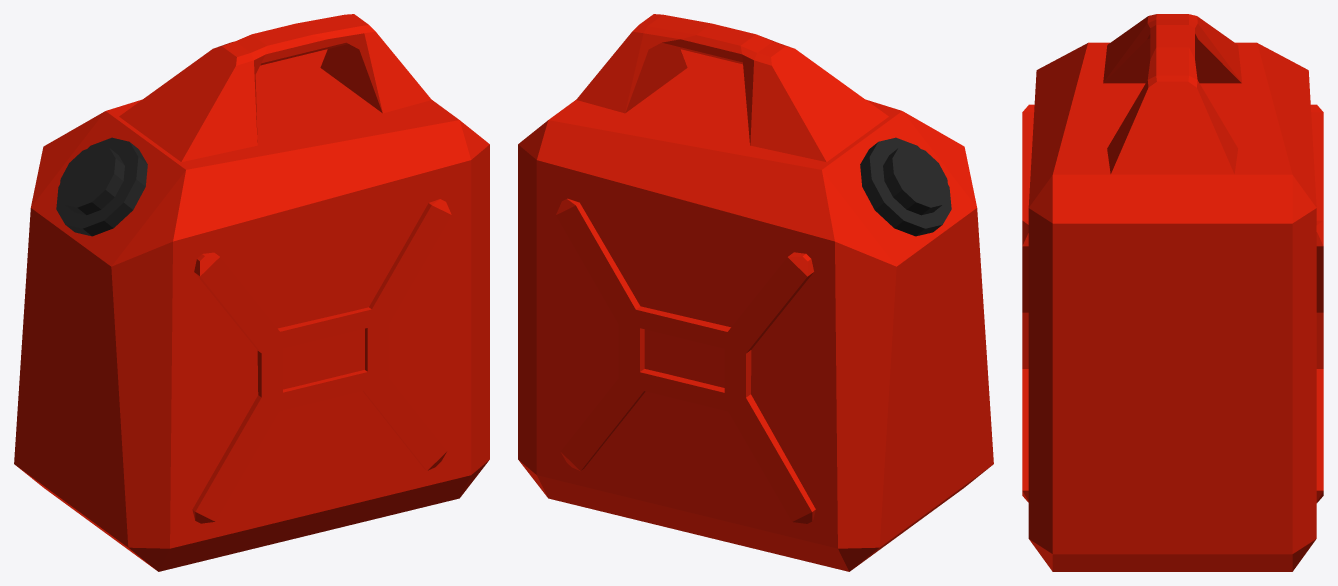
The model's file is GasolineContainer1.fbx.
3 renders of one model, left to right at view 1: azimuth 30°, elevation 25°; view 2: azimuth 150°, elevation 25°; view 3: azimuth 270°, elevation 25°, orthographic. The views are drawn at different scales.
Parts seen in each view (by area): view 1: Container1; view 2: Container1; view 3: Container1.
Part boxes in pixels (x1,y1,x2,y2): Container1: [14, 14, 489, 571]; Container1: [518, 14, 993, 571]; Container1: [1022, 14, 1323, 571].
Size of the model in its own units: 121 by 142 by 81.92.
